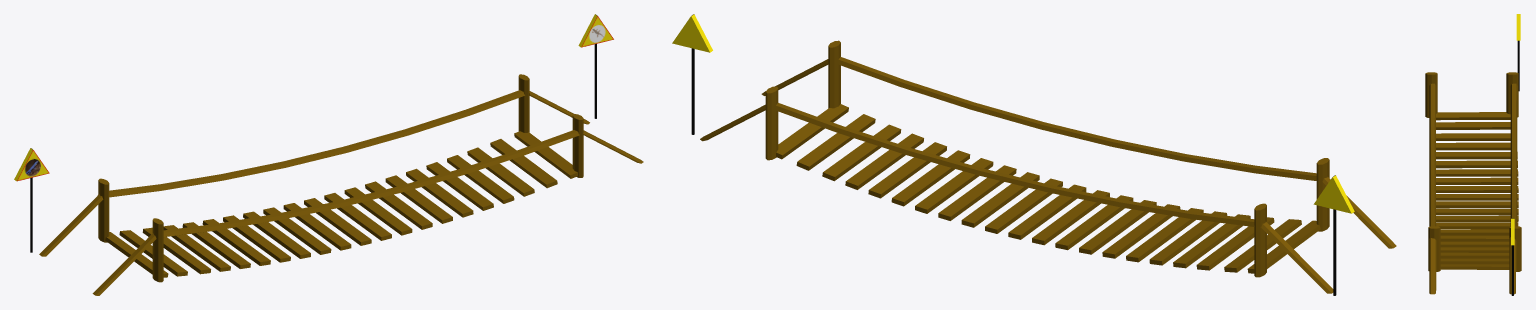
The model's file is level 7.fbx.
The picture shows the model from 3 angles, left to right: view 1: azimuth 30°, elevation 25°; view 2: azimuth 150°, elevation 25°; view 3: azimuth 270°, elevation 25°; orthographic projection. The views are drawn at different scales.
Visible parts, largest first — view 1: pCylinder16, sighen_board1, sighen_board2; view 2: pCylinder16, sighen_board1, sighen_board2; view 3: pCylinder16, sighen_board1, sighen_board2.
Boxes of the visible parts, bbox=[...] form: pCylinder16: bbox=[39, 74, 643, 295]; sighen_board1: bbox=[14, 148, 49, 252]; sighen_board2: bbox=[578, 14, 613, 118]; pCylinder16: bbox=[700, 40, 1396, 293]; sighen_board1: bbox=[1313, 175, 1354, 295]; sighen_board2: bbox=[672, 14, 712, 134]; pCylinder16: bbox=[1425, 72, 1521, 294]; sighen_board1: bbox=[1516, 14, 1520, 91]; sighen_board2: bbox=[1511, 218, 1514, 295].
Bounding box in the file's own units: 1160 × 227 × 217.
3 materials, 2 textured.
